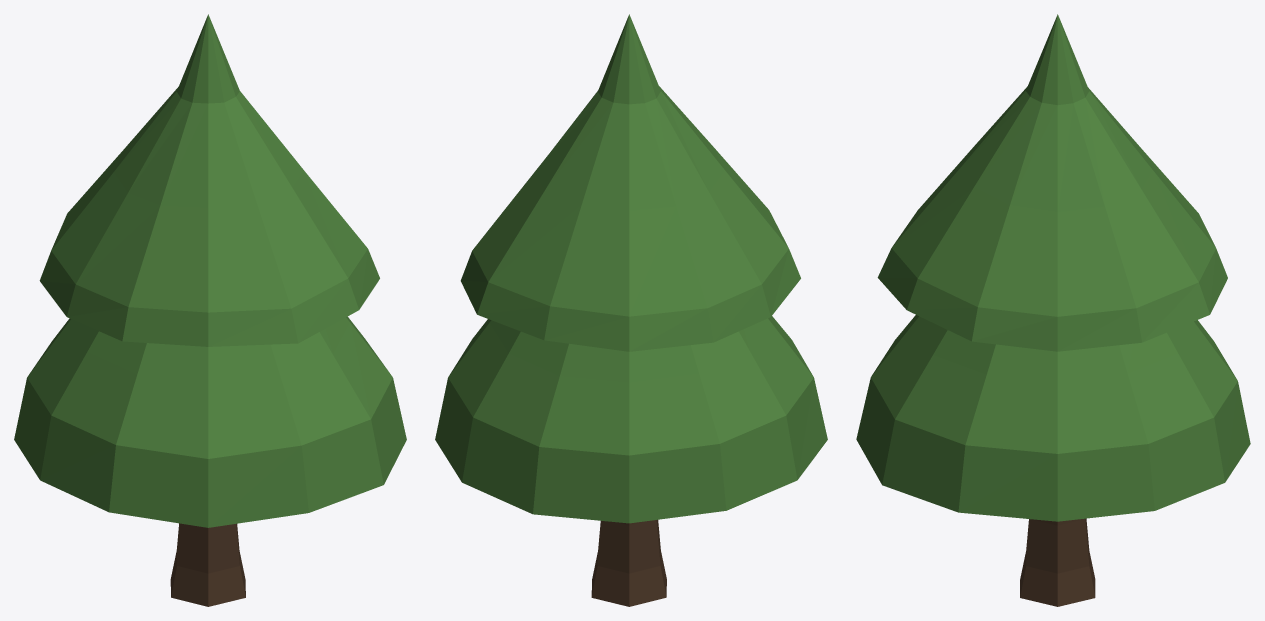
The model's file is young-pine-0d7695.glb.
3 renders of one model, left to right at view 1: azimuth 30°, elevation 25°; view 2: azimuth 150°, elevation 25°; view 3: azimuth 270°, elevation 25°, orthographic.
Parts seen in each view (by area): view 1: young-pine-mesh; view 2: young-pine-mesh; view 3: young-pine-mesh.
Part boxes in pixels (x1,y1,x2,y2): young-pine-mesh: (14,14,406,606); young-pine-mesh: (435,14,827,606); young-pine-mesh: (856,14,1250,606).
Size of the model in its own units: 1.84 by 3 by 1.87.
